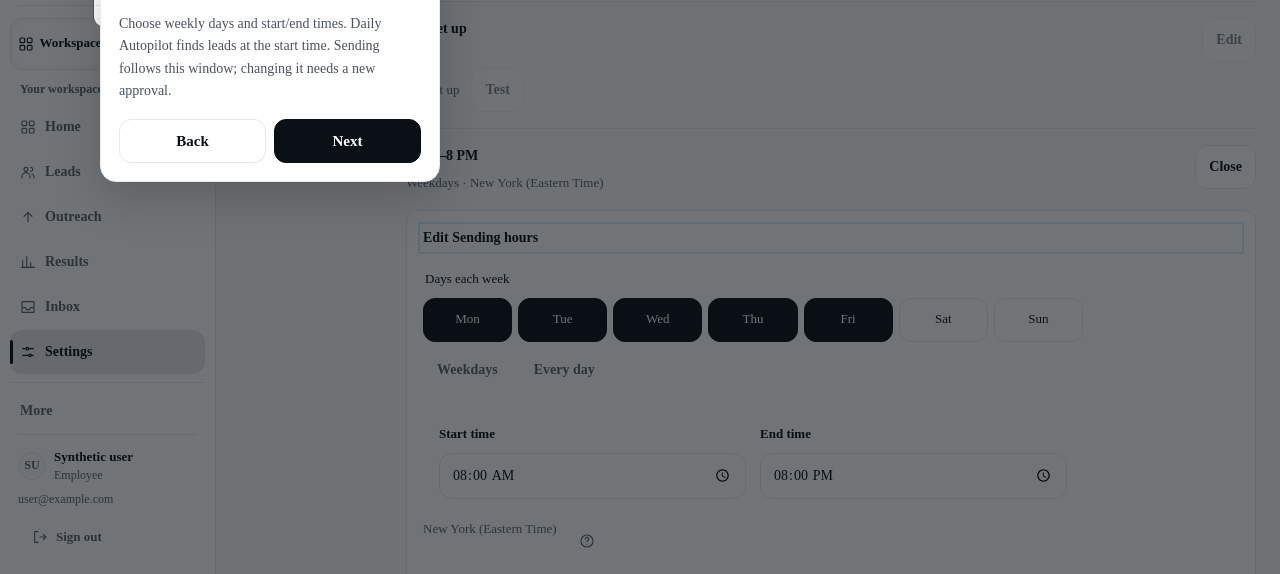
refresh at schedule-details reopens the actual unsaved form and keeps progress
The width and height of the screenshot is (1280, 574).
(page scrolled)
Check: the time field labelled "Start time" is shown, box [439,452,746,499]
Step 1. Click the button "Back" → (192, 141), box [119,119,266,163]
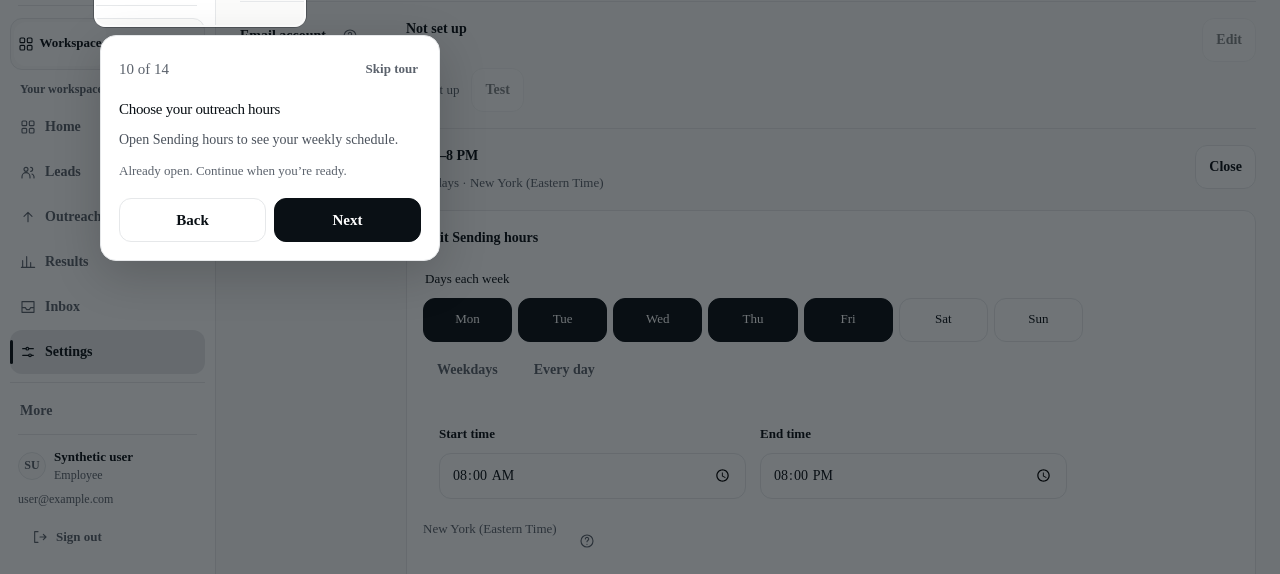
Step 2. Click the button "Skip tour" → (392, 69), box [355,47,429,91]
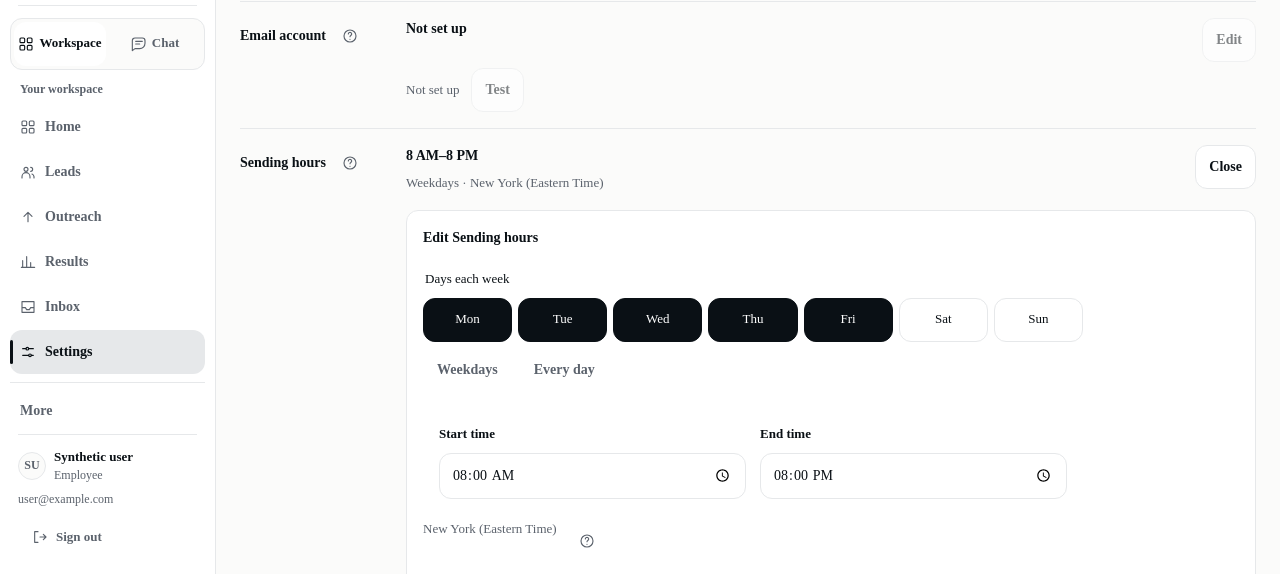
Check: the dialog is gone
